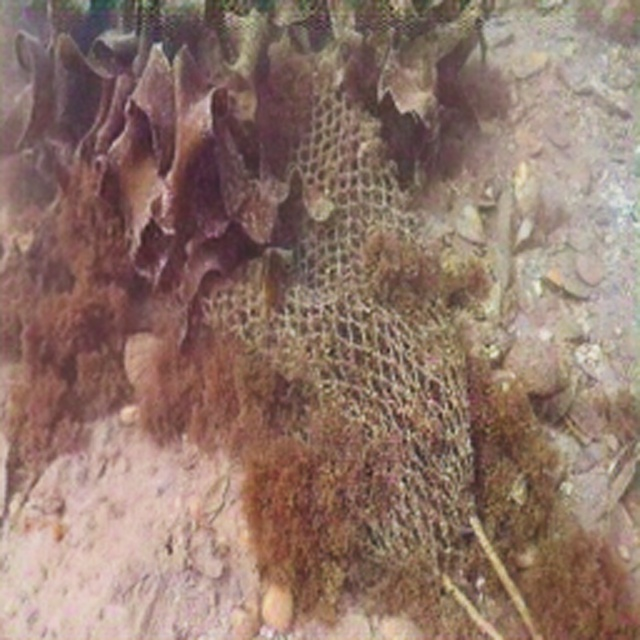mine: (199, 84, 474, 587)
